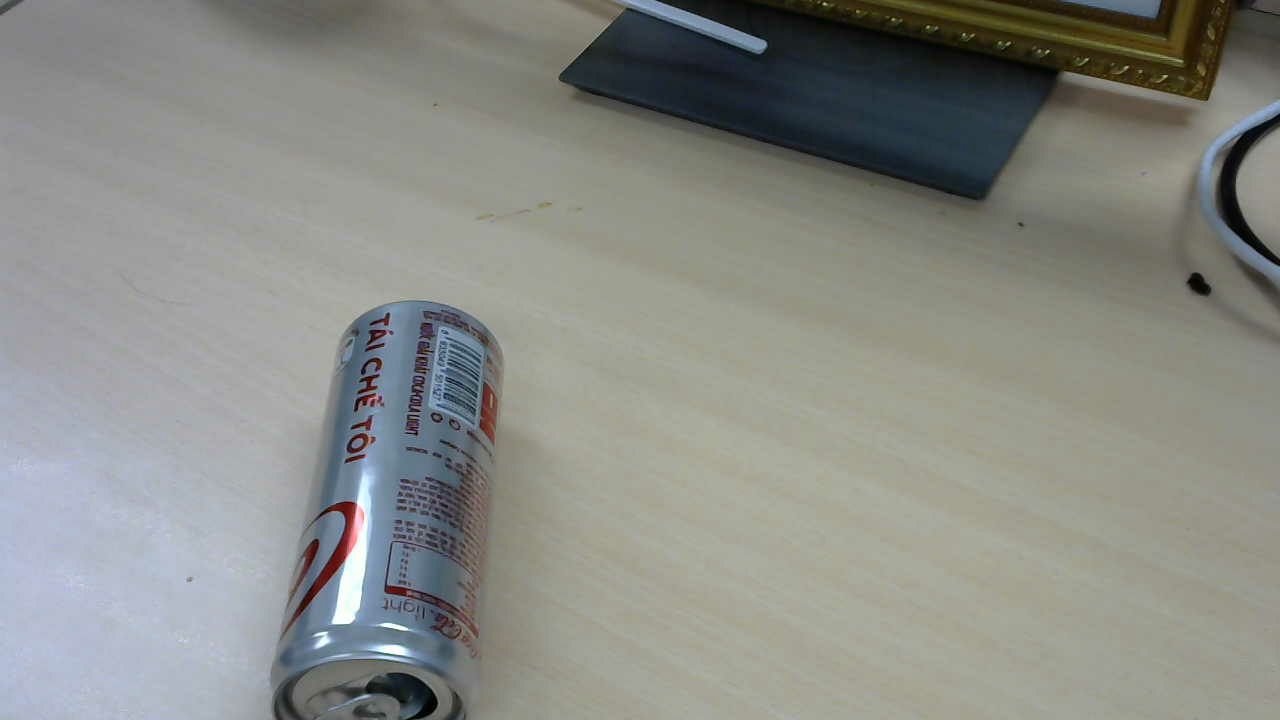Coca_Cola: (273, 302, 509, 699)
